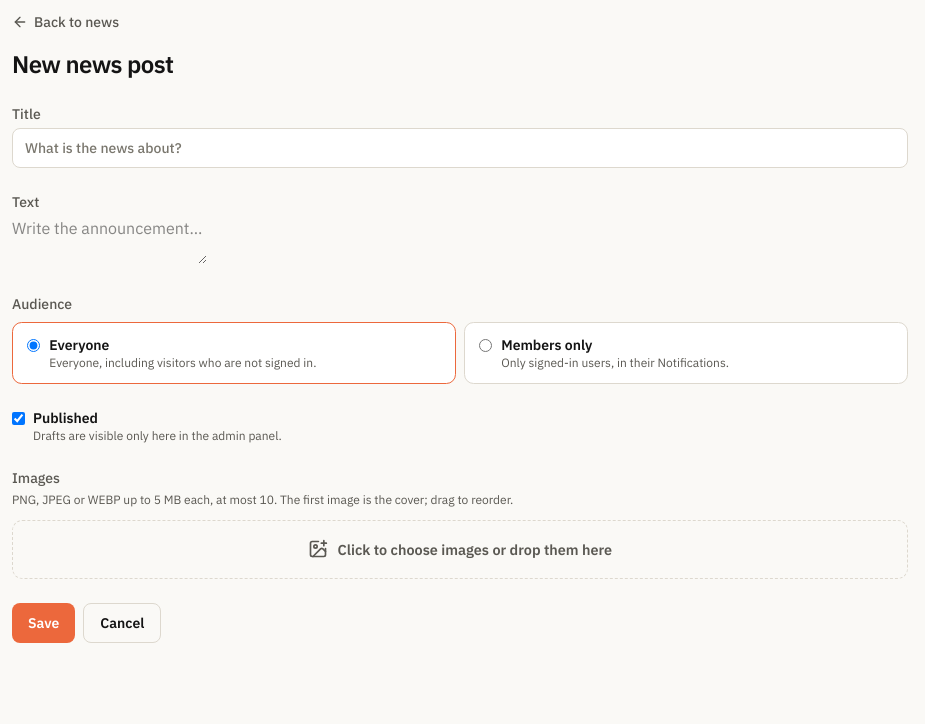
Test: AdminNewsEditorView › asks for a title before saving
Click the button "Save". click: point(44, 623)
box: 12,603 -> 75,643
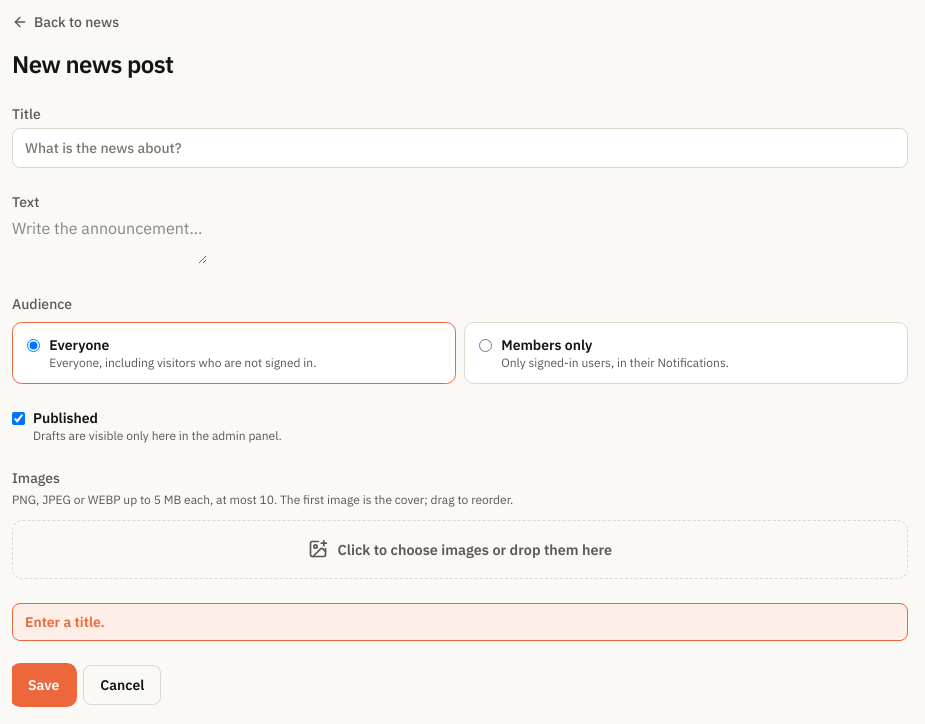
Expected: the message reads "Enter a title.", 25,613 -> 105,631
